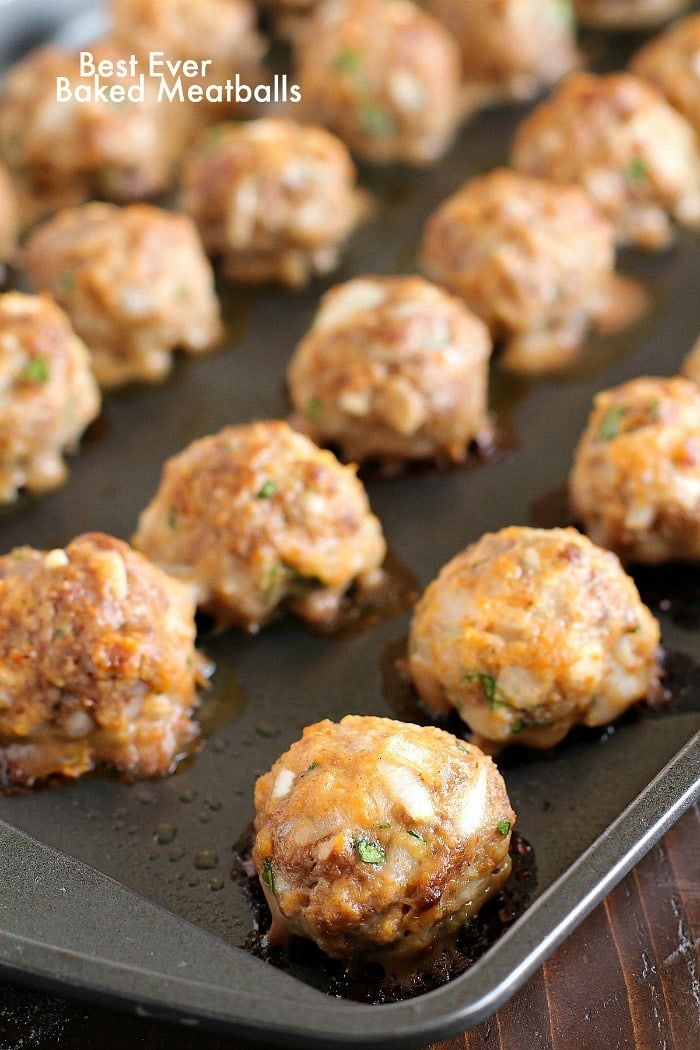meatballs: (267, 722, 498, 936), (421, 526, 647, 736), (1, 535, 191, 769), (159, 429, 378, 614)
